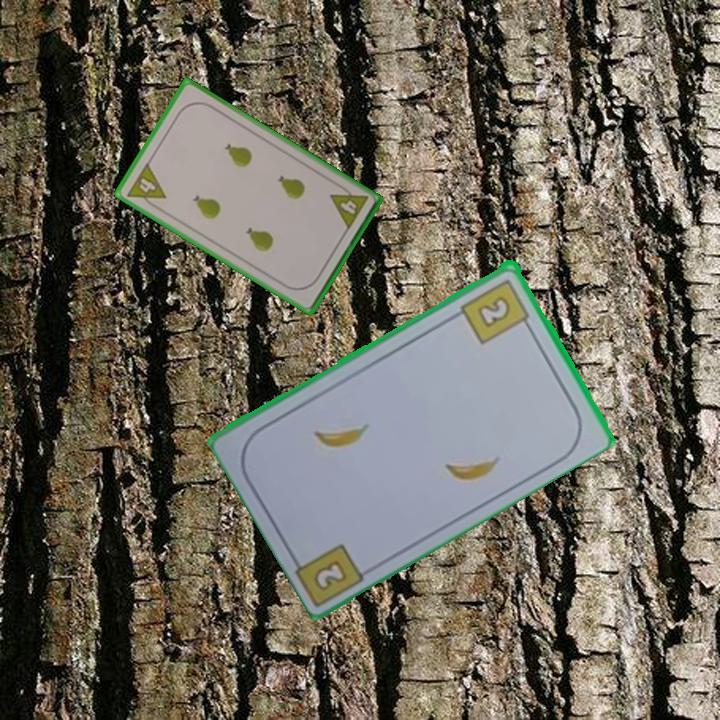2b: (457, 275, 534, 347), (310, 556, 351, 594)
4p: (123, 159, 169, 213), (326, 181, 371, 233)
